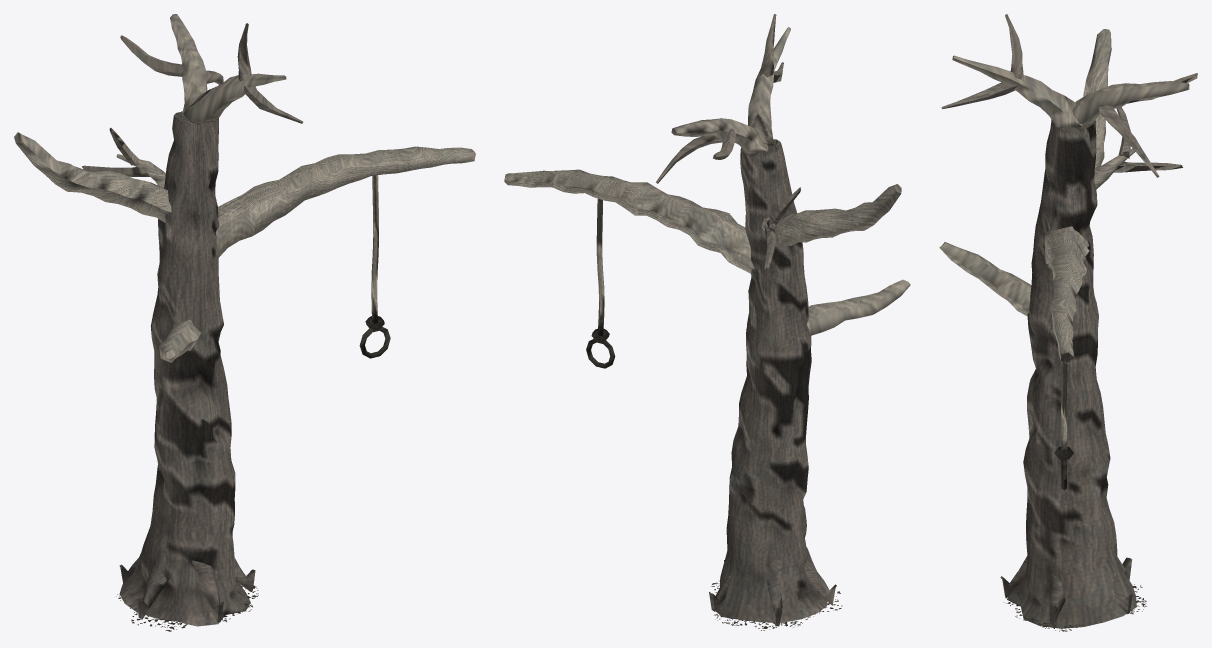
File: tree_gallows_oak.glb
The picture shows the model from 3 angles, left to right: view 1: azimuth 30°, elevation 25°; view 2: azimuth 150°, elevation 25°; view 3: azimuth 270°, elevation 25°; orthographic projection. The views are drawn at different scales.
Visible parts, largest first — view 1: tree_gallows_oak; view 2: tree_gallows_oak; view 3: tree_gallows_oak.
Part boxes in pixels (x1,y1,x2,y2): tree_gallows_oak: [14, 14, 475, 631]; tree_gallows_oak: [504, 14, 910, 630]; tree_gallows_oak: [939, 14, 1197, 631].
Bounding box in the file's own units: 3.14 × 4.08 × 1.59.
2 materials, 2 textured.
